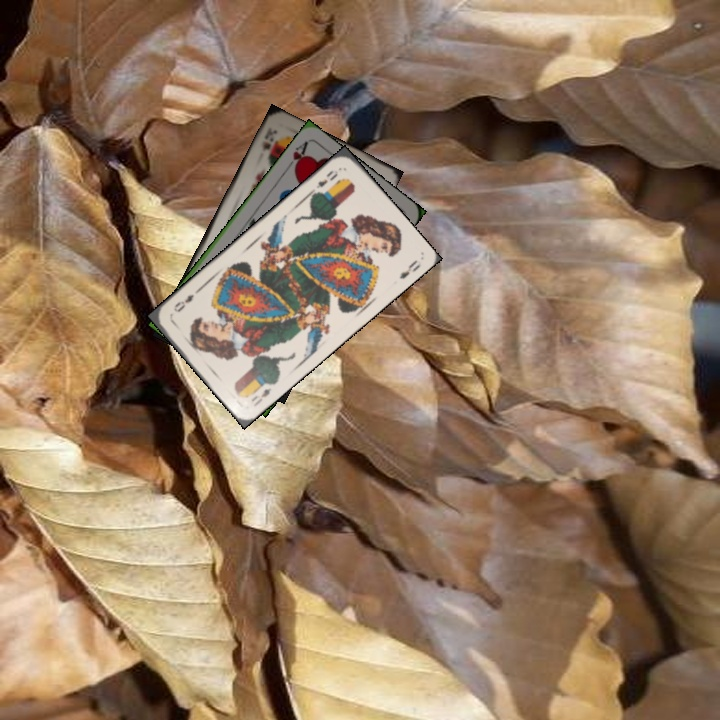EO: (311, 166, 341, 197), (247, 383, 274, 409)
HA: (282, 137, 310, 174)
SK: (258, 123, 280, 154)
